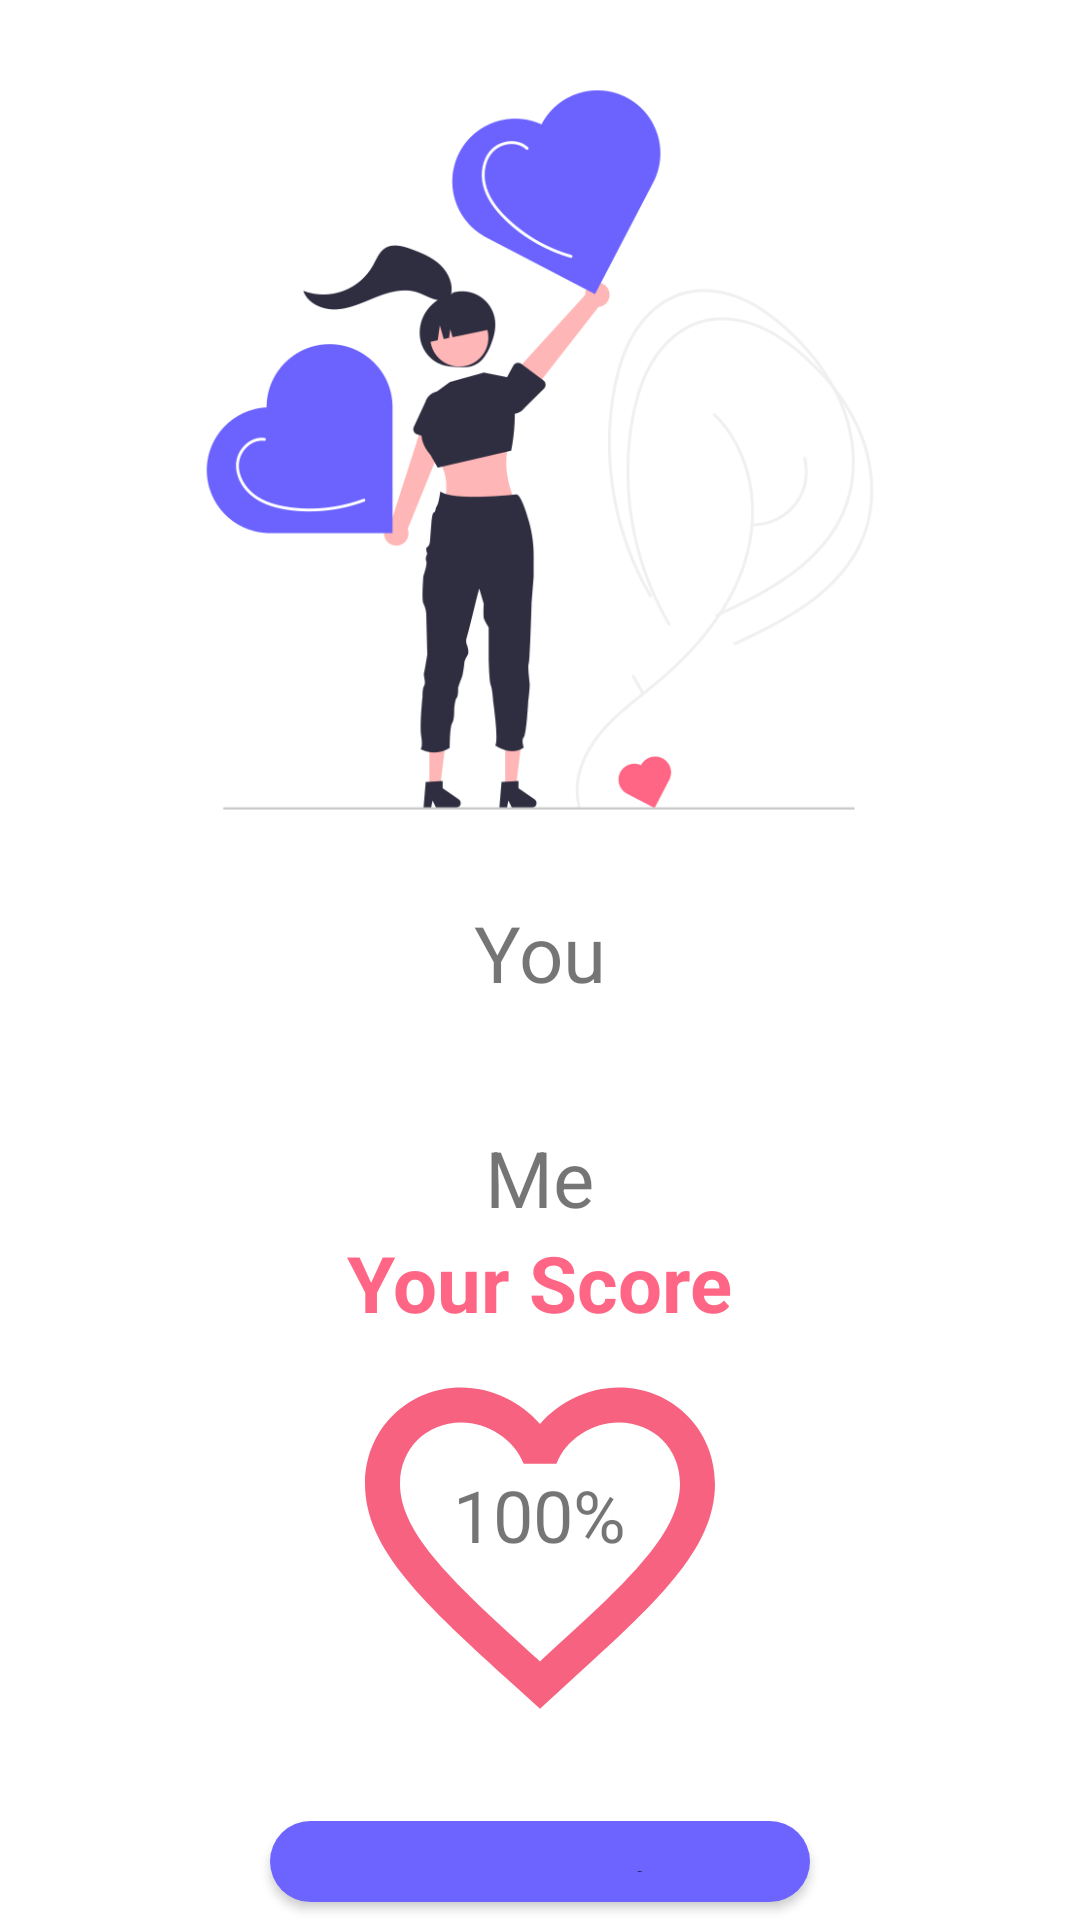

Icon bounding boxes for this 1080x1920 phone screenshot, format box=[x1, y1, x2, y2]:
heard border: box=[365, 1387, 715, 1709]
